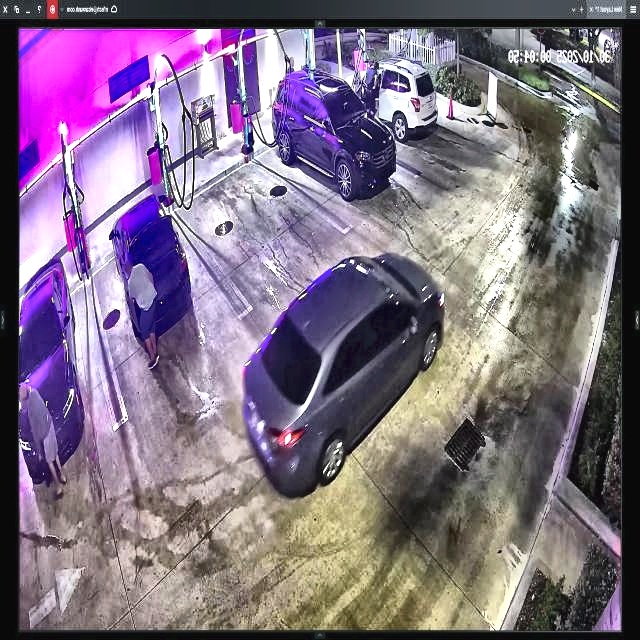Car: (243, 245, 445, 494), (271, 71, 397, 198), (112, 186, 190, 344)
